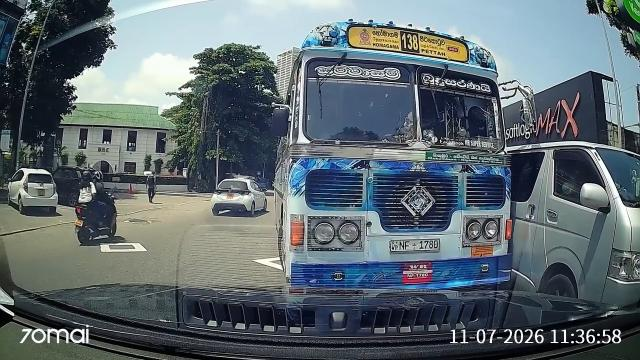number plate: (385, 236, 449, 255)
